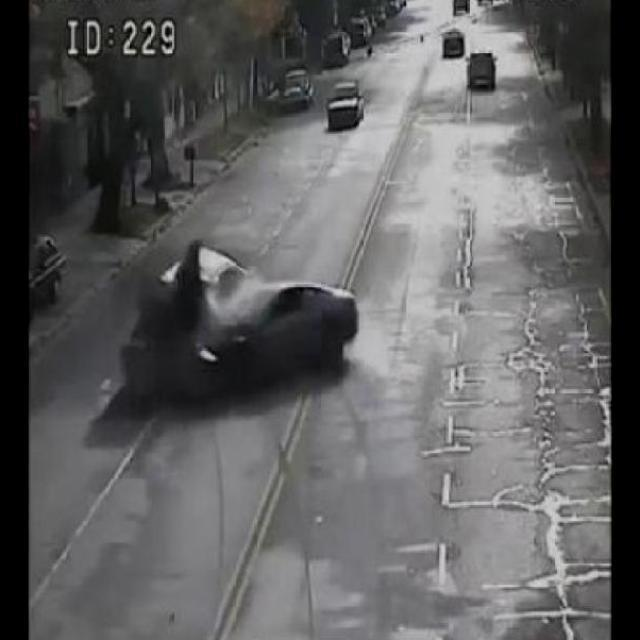accident: (121, 239, 362, 409)
